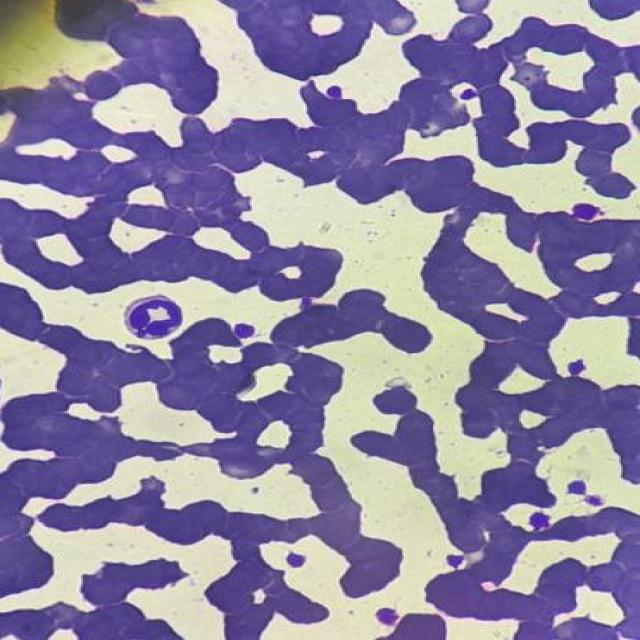Neutrofilo: (122, 293, 191, 343)
